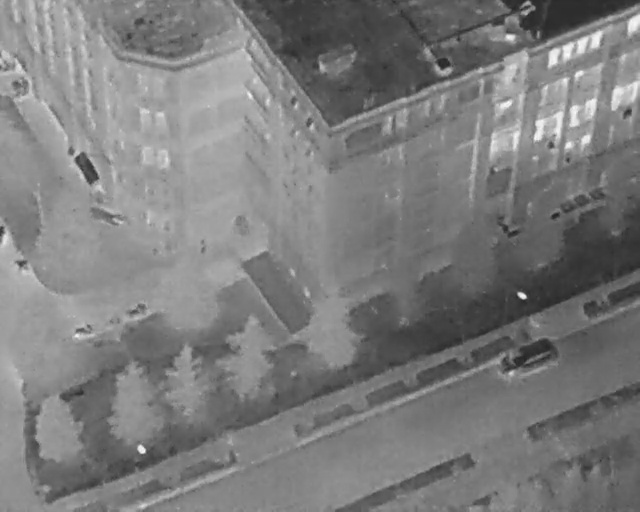Car: (494, 331, 561, 383)
